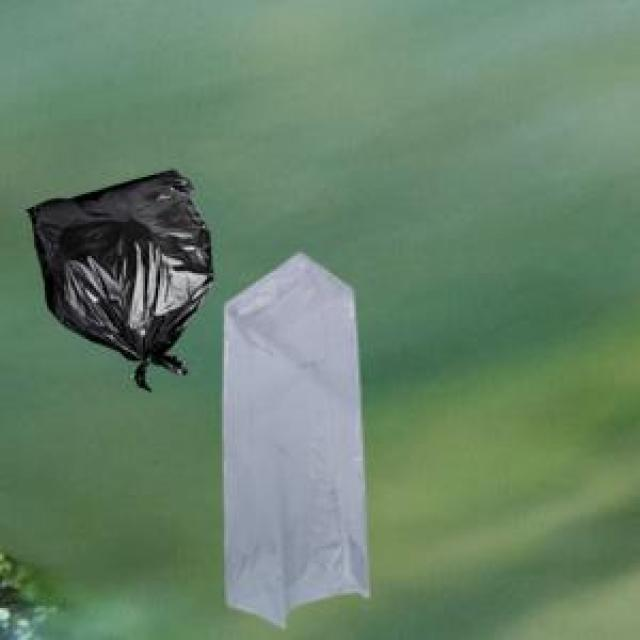miscellaneous trash: (24, 166, 209, 386)
